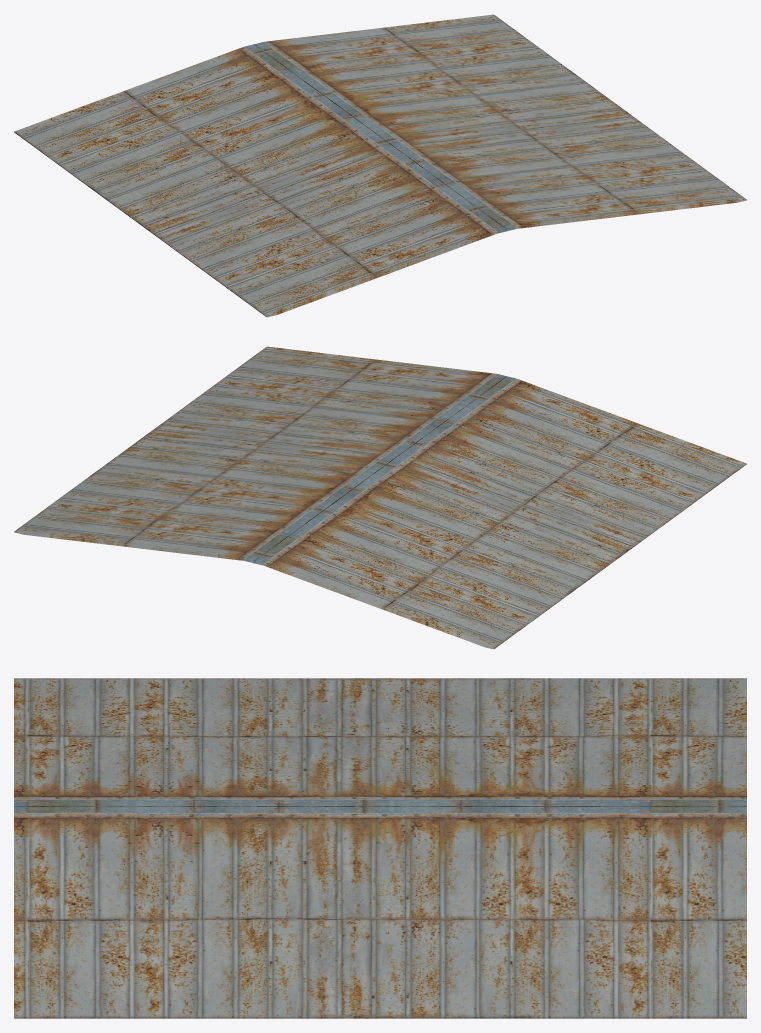
File: Factory2Roof01.FBX
The picture shows the model from 3 angles, top to bottom: view 1: azimuth 30°, elevation 25°; view 2: azimuth 150°, elevation 25°; view 3: azimuth 270°, elevation 25°; orthographic projection. The views are drawn at different scales.
Visible parts, largest first — view 1: Factory2Roof01; view 2: Factory2Roof01; view 3: Factory2Roof01.
Part boxes in pixels (x1,y1,x2,y2): Factory2Roof01: (14,14,746,317); Factory2Roof01: (14,346,746,649); Factory2Roof01: (14,678,746,1018).
Bounding box in the file's own units: 1314 × 77.24 × 1200.
